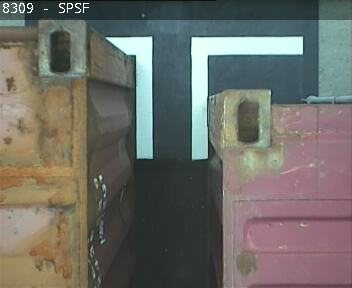groundmarker_1: (103, 36, 304, 159)
